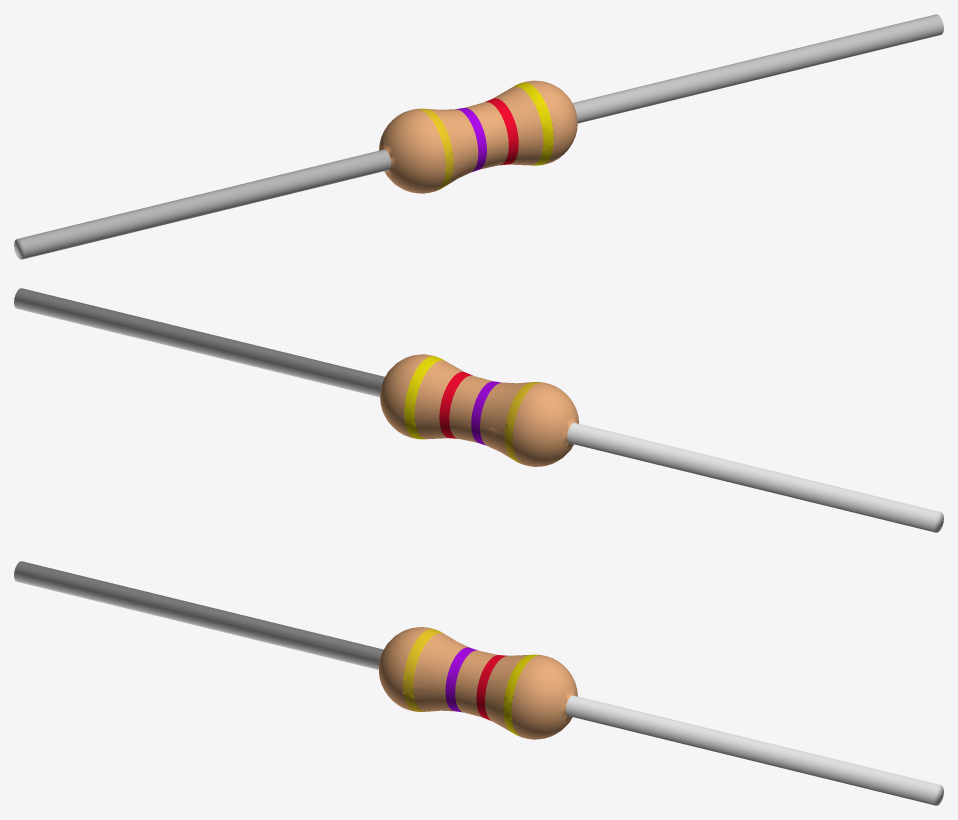
The picture shows the model from 3 angles, top to bottom: view 1: azimuth 30°, elevation 25°; view 2: azimuth 150°, elevation 25°; view 3: azimuth 330°, elevation 25°; orthographic projection.
Parts seen in each view (by area): view 1: METAL-material, CERAMICA-material, OURO-material, VERMELHO-material, AMARELO-material, VIOLETA-material; view 2: METAL-material, CERAMICA-material, OURO-material, VERMELHO-material, AMARELO-material, VIOLETA-material; view 3: METAL-material, CERAMICA-material, AMARELO-material, OURO-material, VIOLETA-material, VERMELHO-material.
Part boxes in pixels (bbox=[...]): METAL-material: bbox=[14, 14, 943, 259]; CERAMICA-material: bbox=[379, 80, 577, 193]; OURO-material: bbox=[513, 82, 553, 165]; VERMELHO-material: bbox=[484, 98, 518, 165]; AMARELO-material: bbox=[417, 108, 453, 190]; VIOLETA-material: bbox=[455, 108, 486, 172]; METAL-material: bbox=[14, 288, 943, 532]; CERAMICA-material: bbox=[380, 354, 578, 466]; OURO-material: bbox=[404, 356, 444, 439]; VERMELHO-material: bbox=[439, 372, 472, 438]; AMARELO-material: bbox=[504, 382, 540, 463]; VIOLETA-material: bbox=[471, 381, 501, 445]; METAL-material: bbox=[14, 561, 943, 805]; CERAMICA-material: bbox=[379, 627, 577, 739]; AMARELO-material: bbox=[403, 628, 443, 711]; OURO-material: bbox=[503, 654, 538, 736]; VIOLETA-material: bbox=[445, 647, 477, 712]; VERMELHO-material: bbox=[476, 655, 507, 720].
Size of the model in its own units: 0.0299 by 0.0024 by 0.00241.
